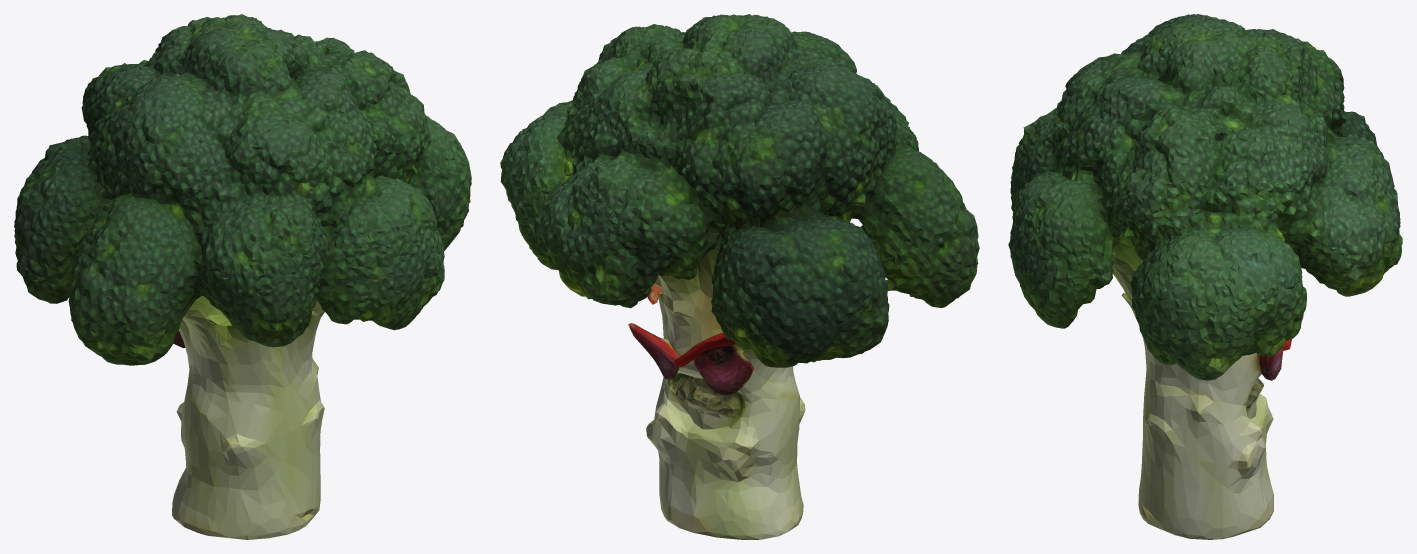
Rendered from brocoli-cuerpo.glb.
3 renders of one model, left to right at view 1: azimuth 30°, elevation 25°; view 2: azimuth 150°, elevation 25°; view 3: azimuth 270°, elevation 25°, orthographic.
Visible parts, largest first — view 1: geometry_0; view 2: geometry_0; view 3: geometry_0.
Boxes of the visible parts, left/top/right/bottom form: geometry_0: left=14, top=14, right=471, bottom=539; geometry_0: left=500, top=14, right=979, bottom=539; geometry_0: left=1008, top=14, right=1402, bottom=539.
Size of the model in its own units: 0.9178 by 0.9981 by 0.7482.
Materials: 1 (1 with a texture image).
